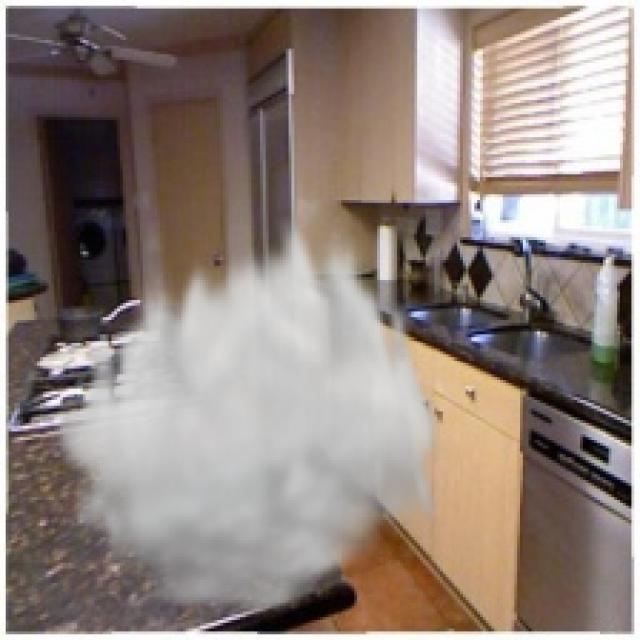smoke: (48, 206, 443, 623)
